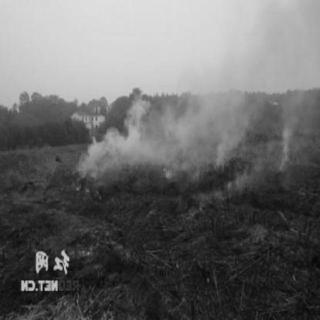Fire: (223, 147, 265, 175), (73, 166, 94, 194)
